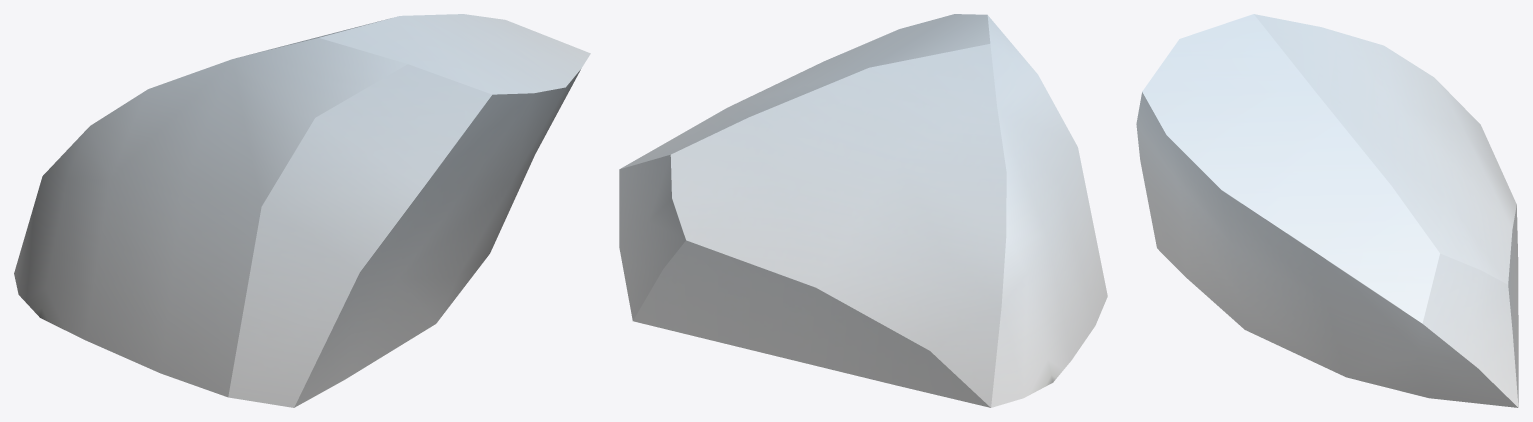
File: Mountain_Stone_White_004.FBX
3 renders of one model, left to right at view 1: azimuth 30°, elevation 25°; view 2: azimuth 150°, elevation 25°; view 3: azimuth 270°, elevation 25°, orthographic. The views are drawn at different scales.
Parts seen in each view (by area): view 1: Mountain_Stone_White_004; view 2: Mountain_Stone_White_004; view 3: Mountain_Stone_White_004.
Boxes of the visible parts, x1,y1,x2,y2 form: Mountain_Stone_White_004: (14,14,590,407); Mountain_Stone_White_004: (619,14,1107,407); Mountain_Stone_White_004: (1136,14,1518,407).
Bounding box in the file's own units: 442 × 238 × 308.
Materials: 1 (1 with a texture image).
